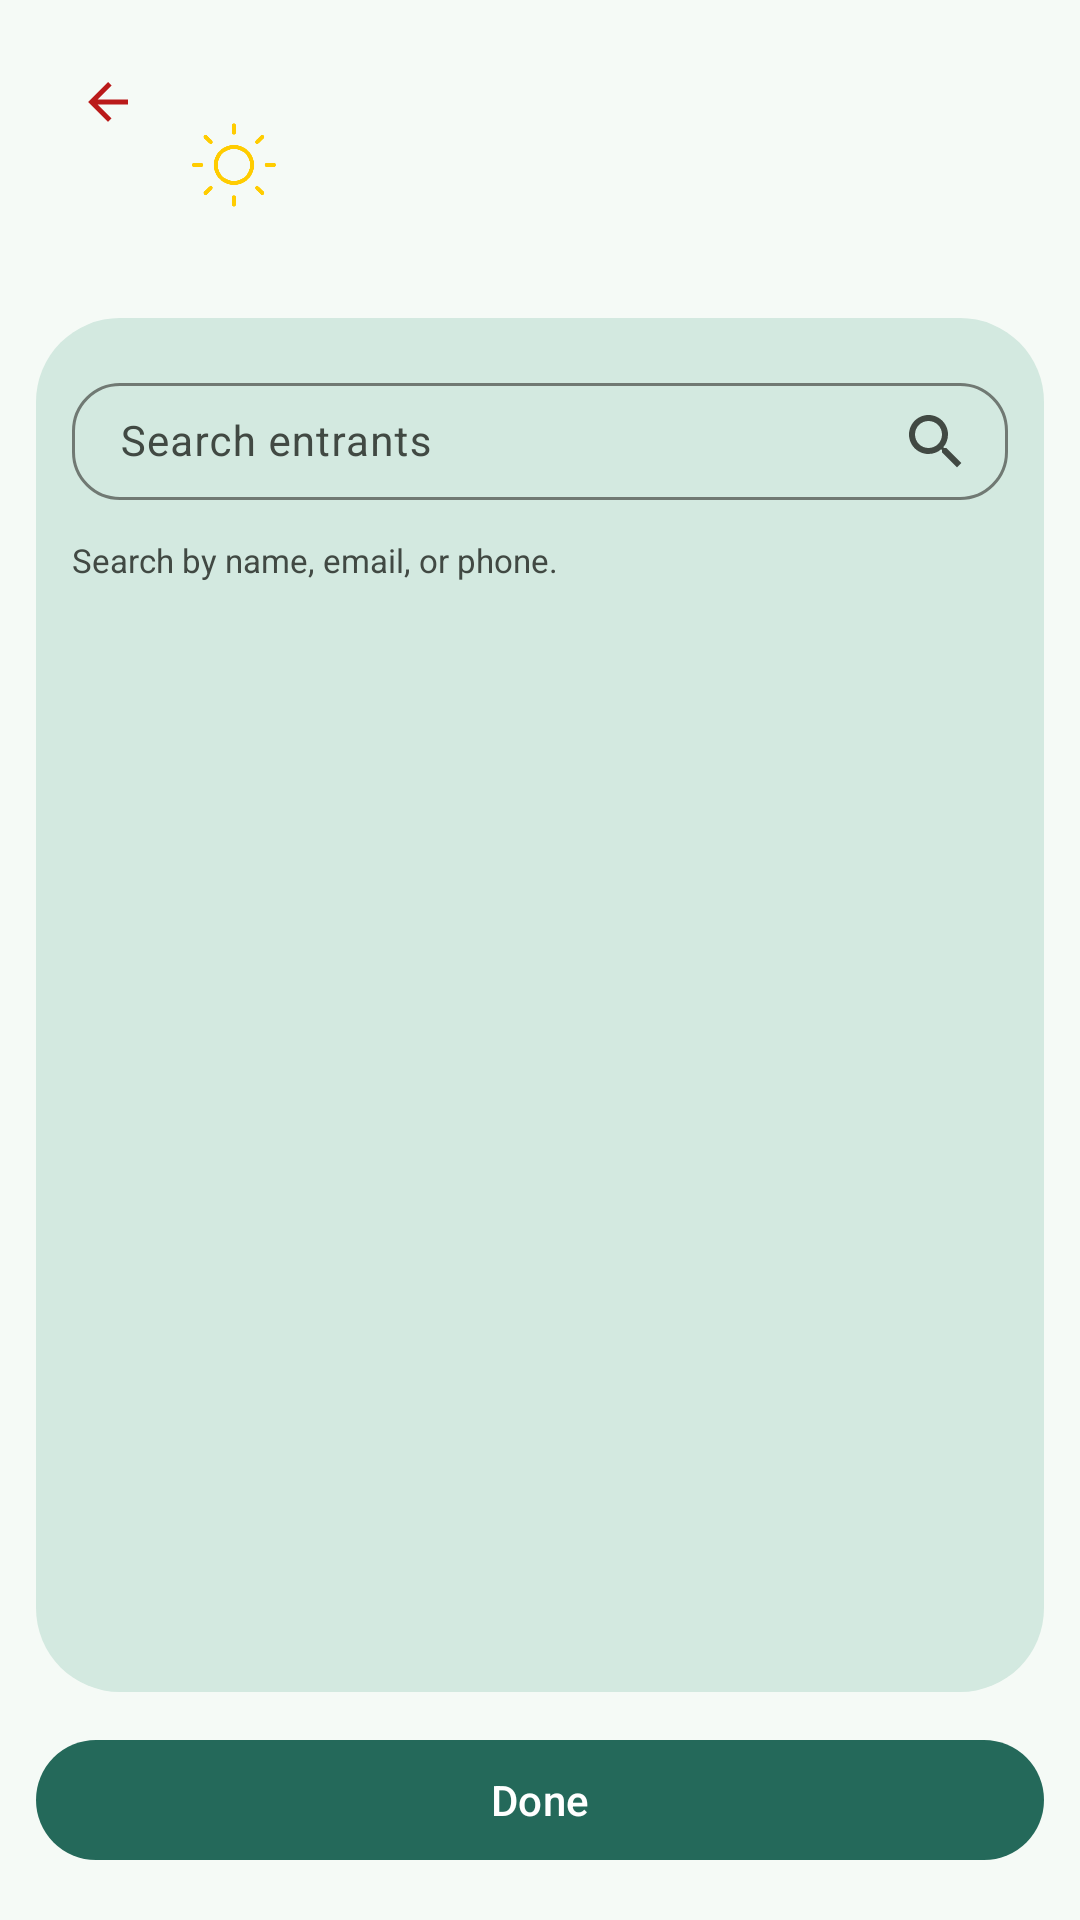

Point at icon controls on the screen. Image size 1080×1920, points as point (x, y).
arrow back: point (108, 102)
